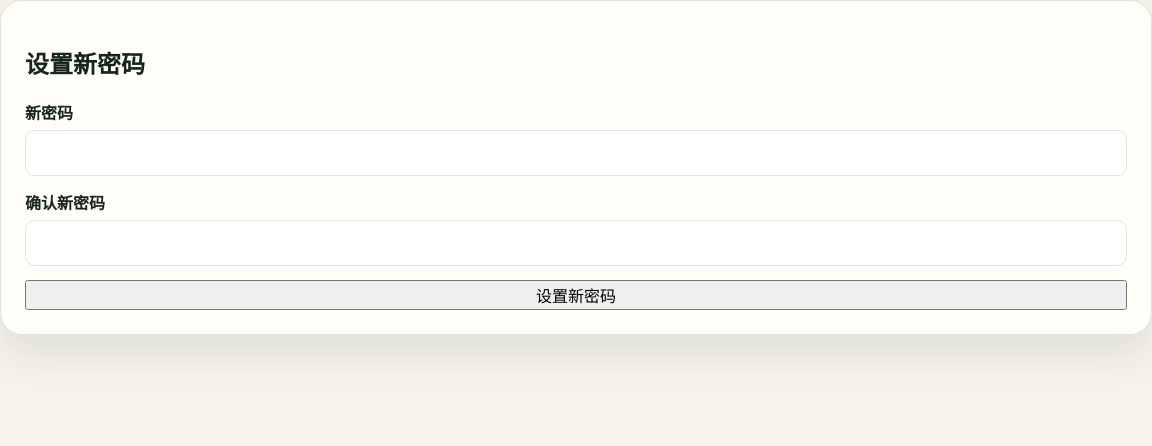
Scenario: PasswordRecoveryPage › validates matching passwords before updating the account
The image size is (1152, 446).
Type "new-password-123" into the password field labelled "新密码" at x=576, y=153, box [25,130,1127,176]
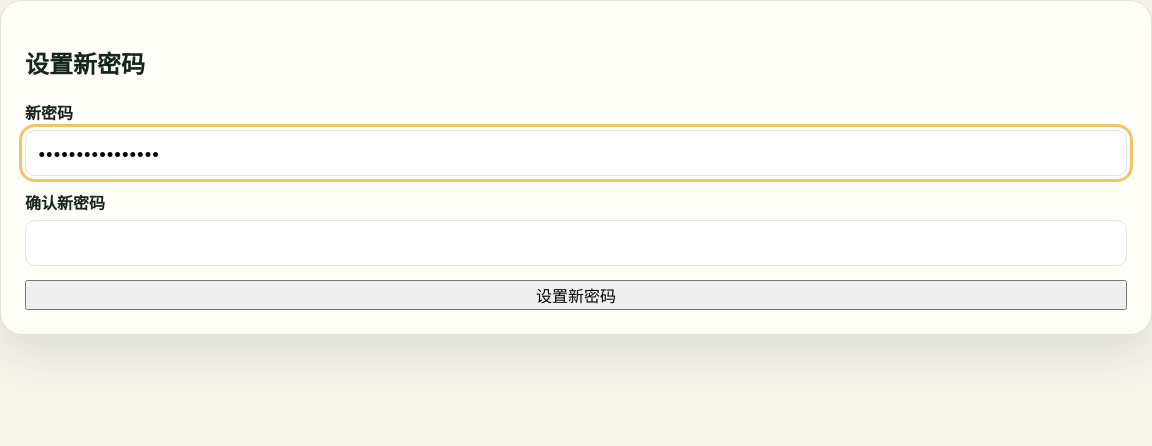
Type "different-password" into the password field labelled "确认新密码" at x=576, y=243, box [25,220,1127,266]
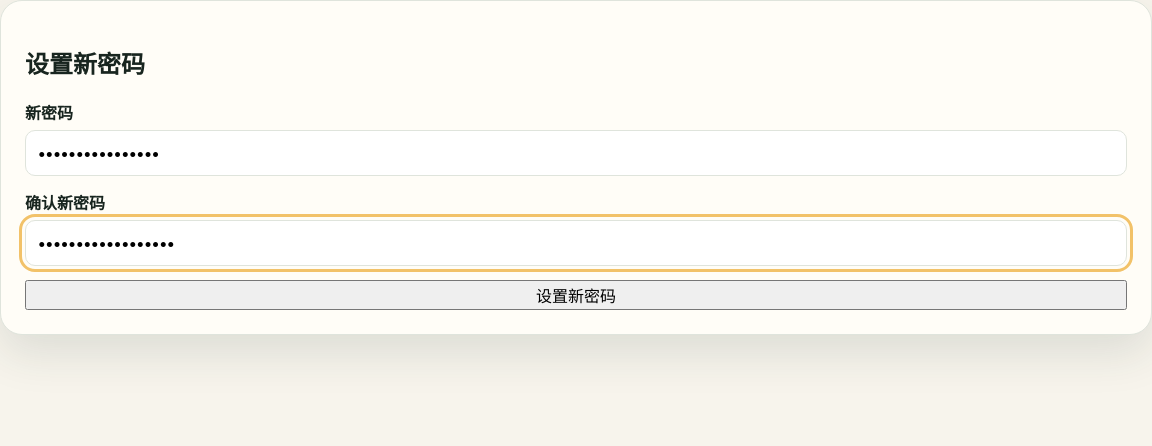
Click the button "设置新密码" at x=576, y=295, box [25,280,1127,310]
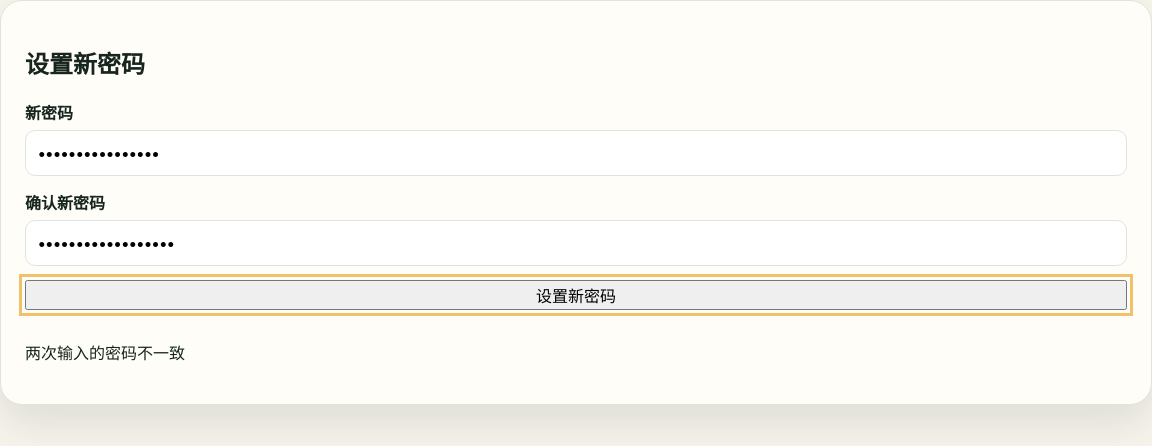
Now the message reads "两次输入的密码不一致", box [25,343,185,363]
